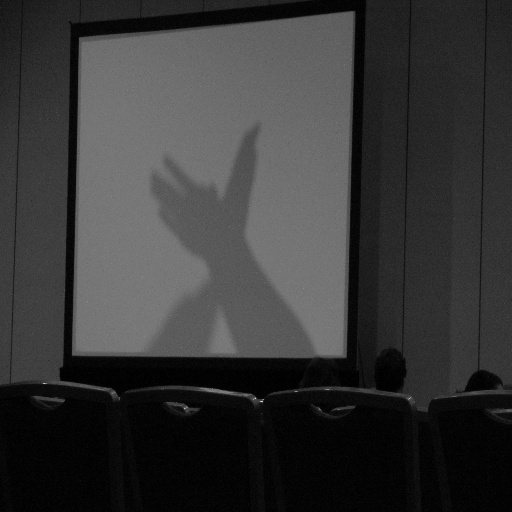hand: (213, 121, 262, 282)
